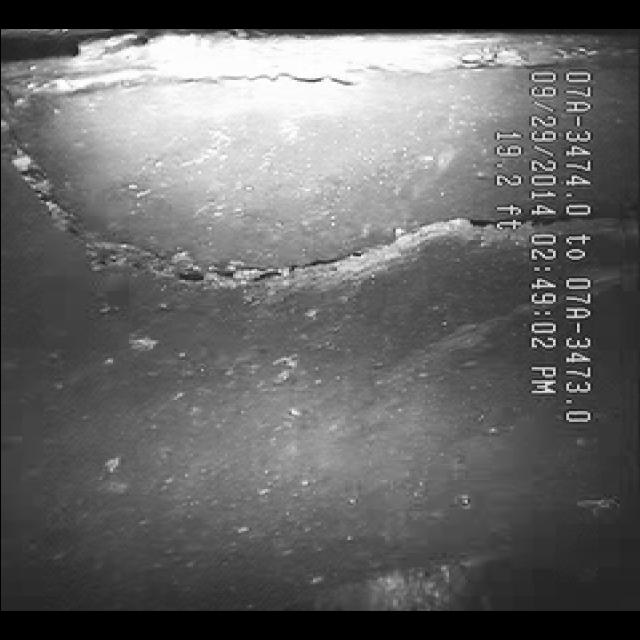Fracture: (2, 158, 476, 361)
